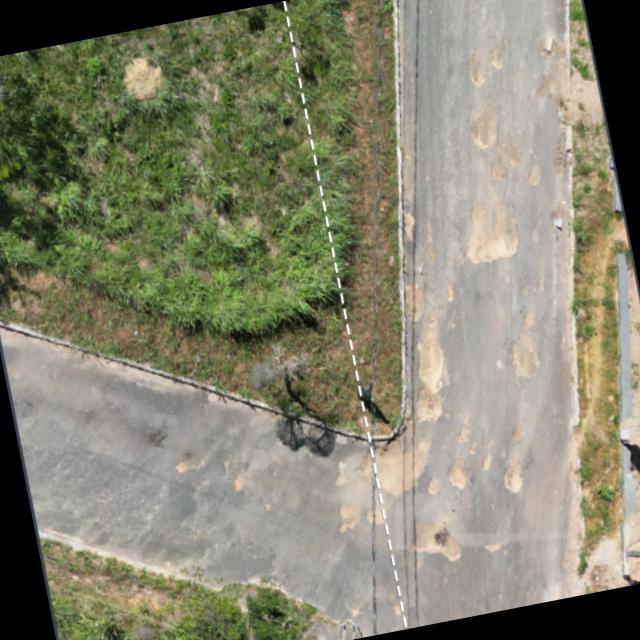crack: (359, 434, 430, 497), (467, 203, 519, 262), (417, 318, 448, 398), (509, 333, 540, 377), (473, 104, 496, 148), (503, 453, 525, 495), (401, 290, 424, 325), (336, 502, 358, 531), (501, 136, 521, 165), (449, 457, 467, 489), (402, 212, 416, 241), (491, 154, 507, 179), (419, 402, 441, 420), (336, 456, 346, 484), (366, 508, 382, 525), (530, 165, 542, 183), (426, 482, 439, 498), (456, 426, 468, 441), (235, 474, 244, 491), (446, 284, 455, 301), (483, 454, 492, 470), (177, 462, 188, 472), (526, 312, 534, 325), (533, 227, 539, 241), (265, 503, 268, 508), (266, 508, 269, 511)
old_road: (1, 0, 578, 636)
